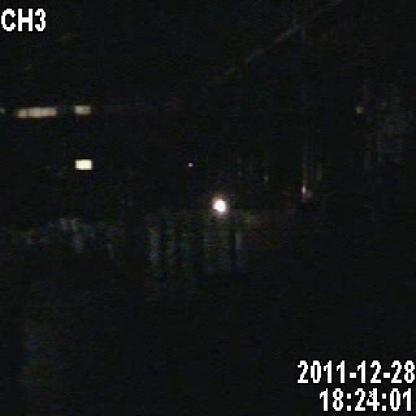fire: (207, 176, 233, 232)
